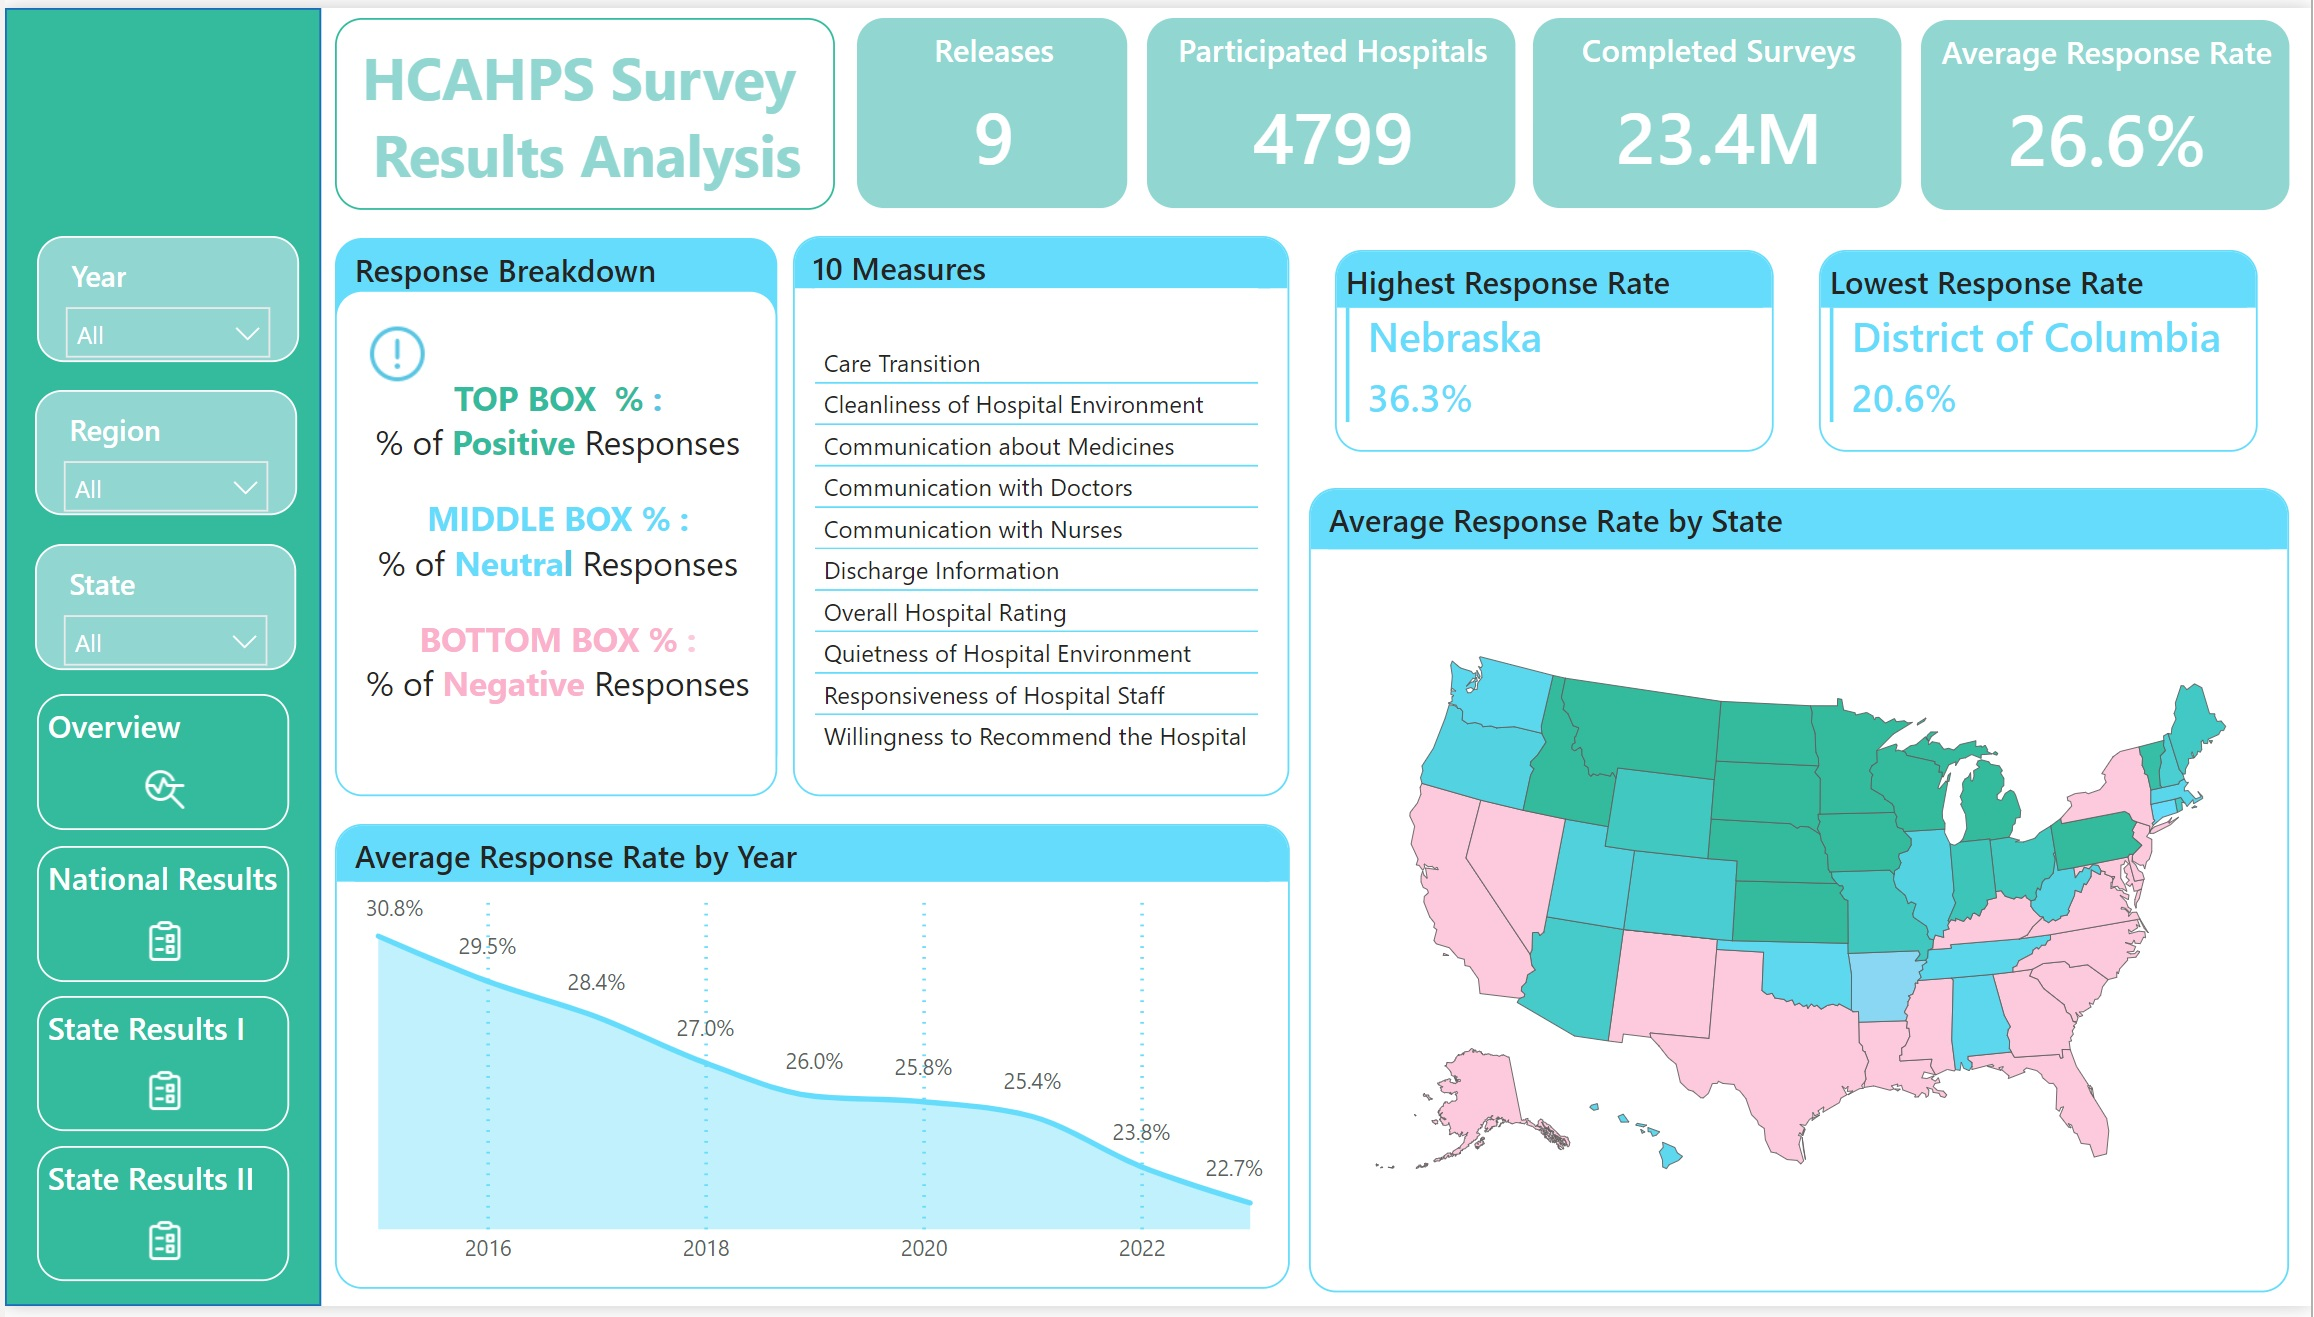

The dashboard page shown, as its layout file describes it:
{"tool":"powerbi","page":{"name":"Overview","canvas":[1280,720],"ordinal":0},"visuals":[{"type":"tableEx","title":"10 Measures","fields":{"Values":["Survey Measures.Measure"]},"box":[437.8,126.7,275.6,311.1],"z":0},{"type":"shape","box":[0,0,175.4,720.5],"z":1000},{"type":"card","title":"Completed Surveys","fields":{"Values":["Measure Table.Completed Surveys"]},"box":[848.6,6,204.3,105.5],"z":2000},{"type":"actionButton","title":"Overview","box":[17.8,380.8,140,75.5],"z":2000,"group":"g1"},{"type":"card","title":"Participated Hospitals","fields":{"Values":["Measure Table.Participated Hospitals"]},"box":[633.6,6,204.3,105.5],"z":3000},{"type":"actionButton","title":"National Results","box":[17.8,465.2,140,75.5],"z":3000,"group":"g1"},{"type":"card","title":"Average Response Rate","fields":{"Values":["Measure Table.Average Response Rate"]},"box":[1063.5,6.7,204.3,105.5],"z":4000},{"type":"actionButton","title":"State Results I","box":[17.8,548.4,140,75],"z":4000,"group":"g1"},{"type":"slicer","fields":{"Values":["Reports.Year"]},"box":[17.8,127,145.5,70],"z":5000},{"type":"actionButton","title":"State Results II","box":[17.8,631.7,140,75],"z":5000,"group":"g1"},{"type":"areaChart","fields":{"Category":["Reports.Year"],"Y":["Measure Table.Average Response Rate"]},"box":[183.3,453.3,530,257.8],"z":6000},{"type":"card","title":"Releases","fields":{"Values":["Measure Table.Releases"]},"box":[472.9,6,150,105.5],"z":7000},{"type":"slicer","fields":{"Values":["States.Region"]},"box":[17,212.1,145.5,69.4],"z":8000},{"type":"textbox","box":[183.2,6,277.5,106.6],"z":9000},{"type":"textbox","title":"Response Breakdown","box":[183.2,127.7,245.3,300.8],"z":10000},{"type":"textbox","box":[183.2,156.5,245.3,280.9],"z":11000},{"type":"image","box":[192.1,168.7,51.1,46.6],"z":12000},{"type":"shapeMap","title":"Average Response Rate by State","fields":{"Category":["States.State Name"],"Value":["Measure Table.Average Response Rate"]},"box":[723.8,266.4,544,446.3],"z":13000},{"type":"multiRowCard","title":"Highest Response Rate","fields":{"Values":["Min(States.State Name)","Measure Table.Average Response Rate"]},"box":[738.5,134.4,243.3,112.2],"z":14000},{"type":"multiRowCard","title":"Lowest Response Rate","fields":{"Values":["Min(States.Region Hierarchy.State Name)","Measure Table.Average Response Rate"]},"box":[1007,134.4,243.3,112.2],"z":15000},{"type":"group","id":"g1","title":"Group 1","box":[17.8,380.8,140,325.9],"z":16000},{"type":"slicer","fields":{"Values":["States.State Name"]},"box":[17,297.1,145,70],"z":17000}]}

Visuals, with their boxes in screenshot pixels (x1, y1, x2, y2), scaled from the page's 1280x720 canvas onto the 2314x1317 screenshot:
"10 Measures" tableEx: (791,232,1290,801)
shape: (0,0,317,1316)
"Completed Surveys" card: (1534,11,1903,204)
"Overview" actionButton: (32,697,285,835)
"Participated Hospitals" card: (1145,11,1515,204)
"National Results" actionButton: (32,851,285,989)
"Average Response Rate" card: (1923,12,2292,205)
"State Results I" actionButton: (32,1003,285,1140)
slicer - Reports.Year: (32,232,295,360)
"State Results II" actionButton: (32,1155,285,1293)
areaChart - Reports.Year x Measure Table.Average Response Rate: (331,829,1290,1301)
"Releases" card: (855,11,1126,204)
slicer - States.Region: (31,388,294,515)
textbox: (331,11,833,206)
"Response Breakdown" textbox: (331,234,775,784)
textbox: (331,286,775,800)
image: (347,309,440,394)
"Average Response Rate by State" shapeMap: (1308,487,2292,1304)
"Highest Response Rate" multiRowCard: (1335,246,1775,451)
"Lowest Response Rate" multiRowCard: (1820,246,2260,451)
"Group 1" group: (32,697,285,1293)
slicer - States.State Name: (31,543,293,671)
